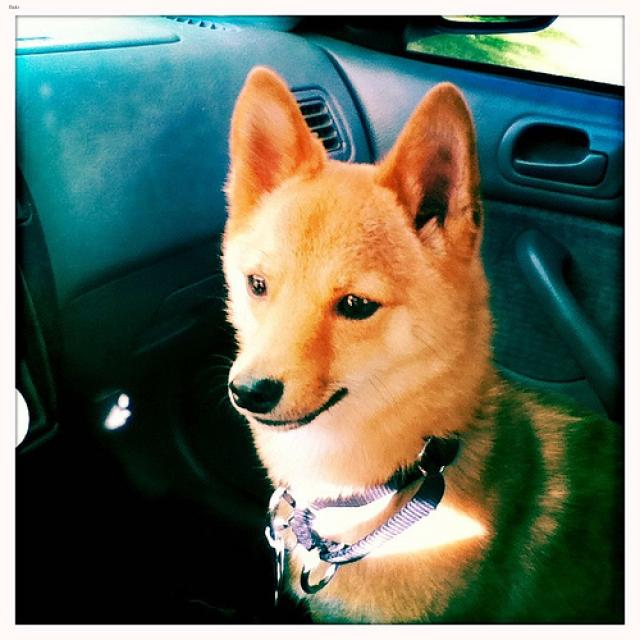dog-shiba_inu: (211, 56, 635, 635)
